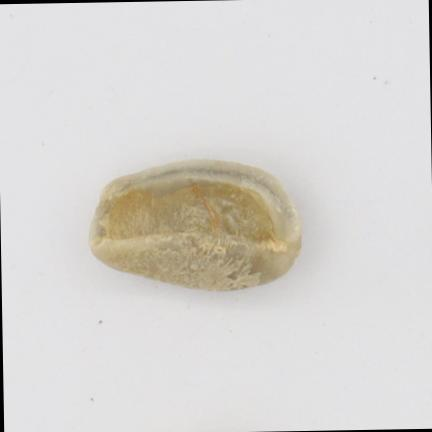shell: (89, 159, 300, 289)
